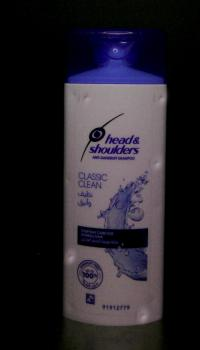dent_unacceptable: (133, 310, 153, 325), (150, 152, 163, 172), (79, 92, 96, 107), (65, 250, 77, 267), (155, 92, 167, 107)
